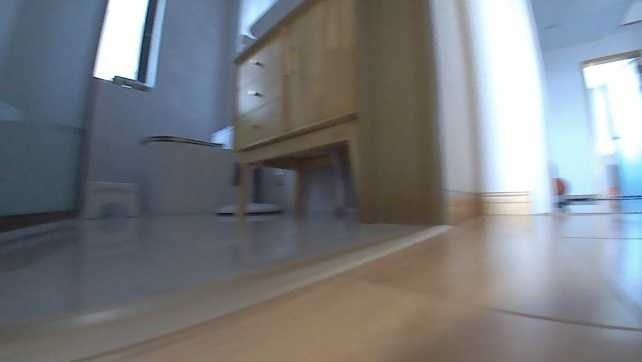door_sill: (0, 221, 455, 360)
toilet: (137, 124, 245, 215)
washstand: (233, 0, 363, 210)
